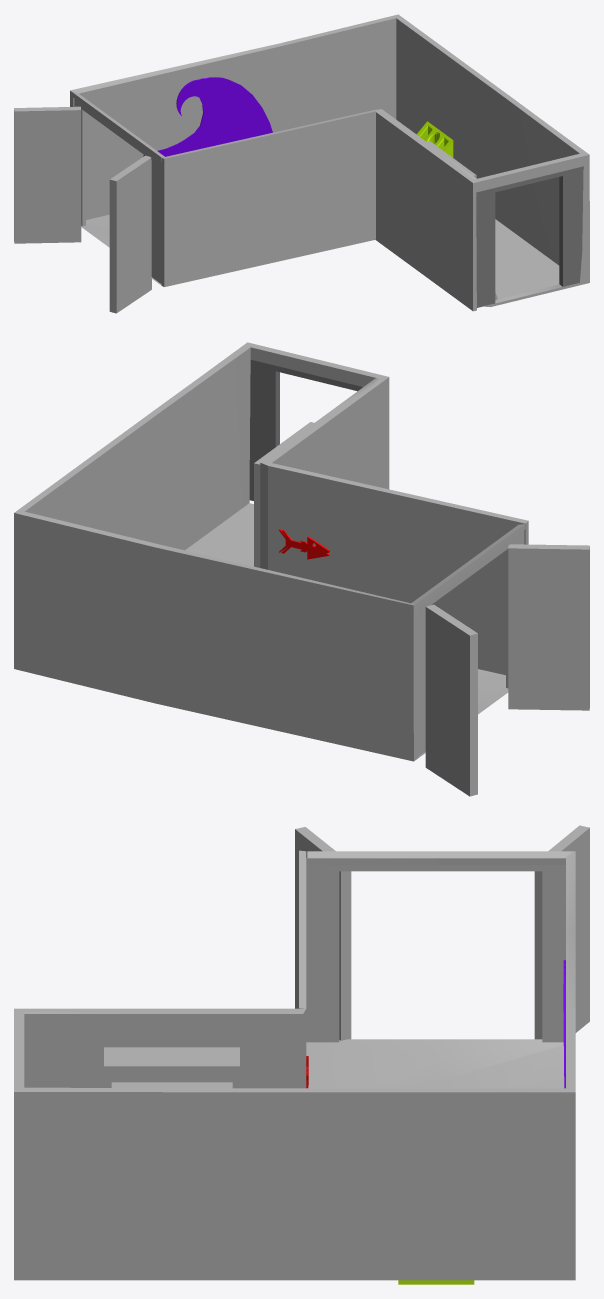
File: hallway probuilded(fix).fbx
3 views of the same model, one above another, from view 1: azimuth 30°, elevation 25°; view 2: azimuth 150°, elevation 25°; view 3: azimuth 270°, elevation 25° (orthographic). The views are drawn at different scales.
Parts seen in each view (by area): view 1: Plane, Cube_014__1_, Cube_014, Door_1, Cylinder, Door, Cube_009; view 2: Plane, Cube_014, Cube_014__1_, Door_1, Door, Cube_002, Cube_011; view 3: Plane, Door, Cube_002, Cube_014__1_, Cube_014.
Part boxes in pixels (<box>): Plane: <box>70,14,589,311</box>; Cube_014__1_: <box>14,106,81,243</box>; Cube_014: <box>109,155,151,313</box>; Door_1: <box>476,166,583,307</box>; Cylinder: <box>143,77,272,156</box>; Door: <box>74,98,161,283</box>; Cube_009: <box>416,121,453,157</box>; Plane: <box>14,342,528,761</box>; Cube_014: <box>508,544,589,710</box>; Cube_014__1_: <box>425,604,477,796</box>; Door_1: <box>249,360,362,500</box>; Door: <box>418,530,524,756</box>; Cube_002: <box>254,422,313,567</box>; Cube_011: <box>279,529,329,559</box>; Plane: <box>14,850,575,1280</box>; Door: <box>306,858,565,1042</box>; Cube_002: <box>104,1047,239,1088</box>; Cube_014__1_: <box>534,825,589,1039</box>; Cube_014: <box>295,827,351,1040</box>.
Size of the model in its own units: 4866 by 1721 by 4328.
